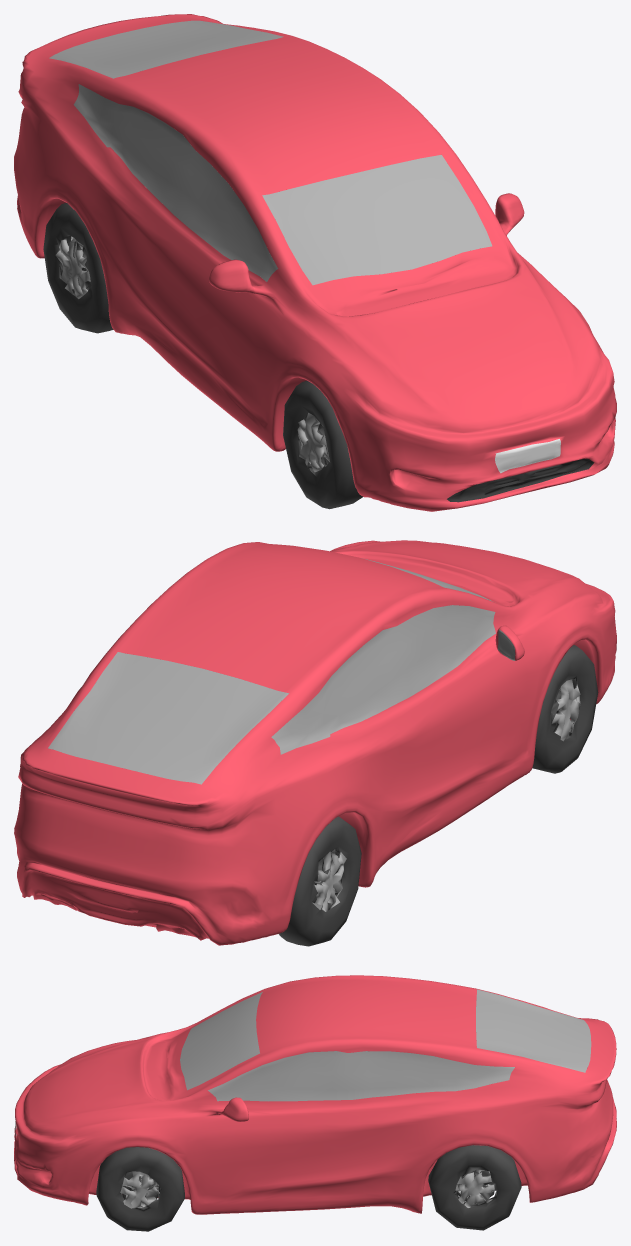
3 views of the same model, one above another, from view 1: azimuth 30°, elevation 25°; view 2: azimuth 150°, elevation 25°; view 3: azimuth 270°, elevation 25° (orthographic). The views are drawn at different scales.
Parts seen in each view (by area): view 1: Retopo_Mesh_0.004; view 2: Retopo_Mesh_0.004; view 3: Retopo_Mesh_0.004.
Boxes of the visible parts, x1=… form: Retopo_Mesh_0.004: x1=14, y1=14, x2=616, y2=511; Retopo_Mesh_0.004: x1=14, y1=540, x2=616, y2=946; Retopo_Mesh_0.004: x1=14, y1=975, x2=616, y2=1231.
Size of the model in its own units: 1.98 by 1.62 by 4.75.
